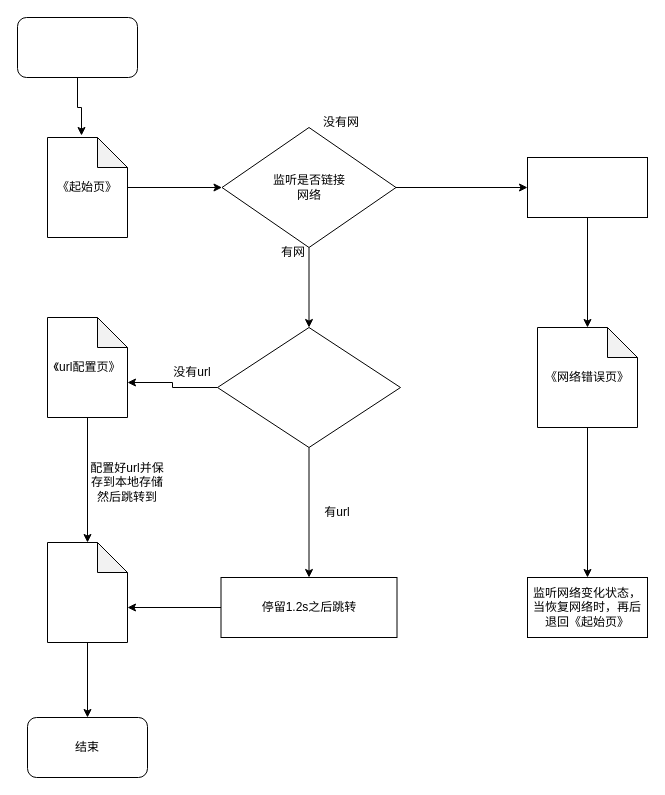
The diagram is 665 pixels wide and 795 high, and some of its shapes have lost their labels. The shapes that lost their labels are listed below. From the top down, each one's centre as x and y in pixels, then its label:
the point at 77,47: 开始
the point at 587,187: 提示没有网络连接
the point at 308,387: 读取本地存储数据，看有没有url
the point at 87,592: 《主显示页》
